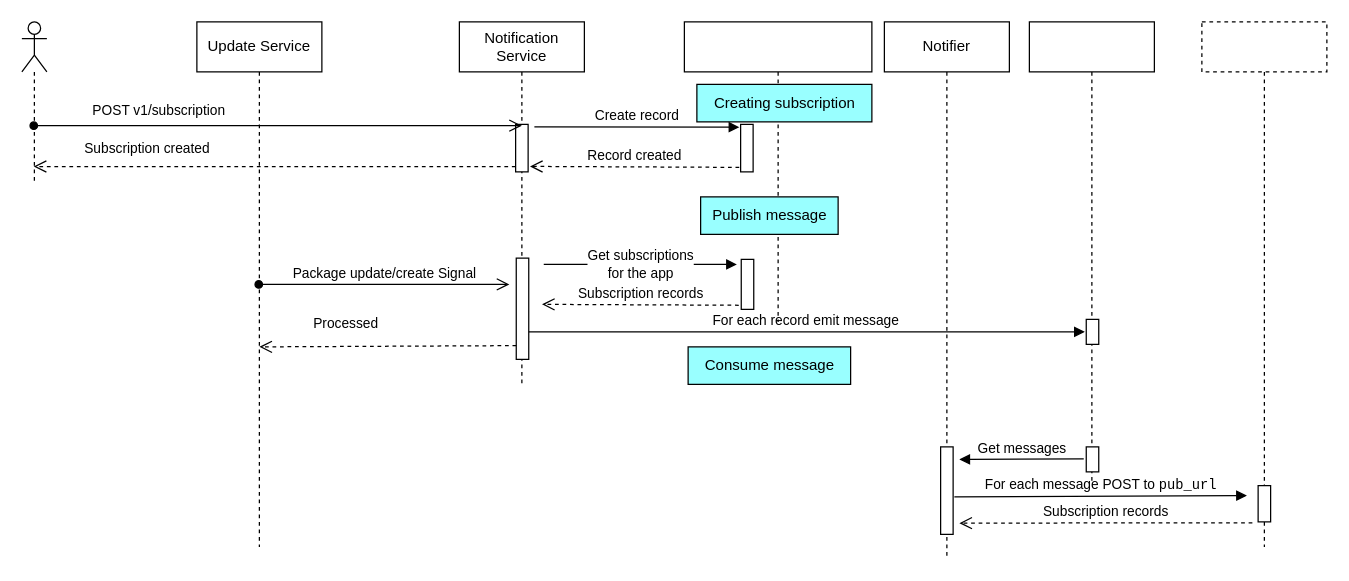
The diagram is 1349 pixels wide and 581 high, and some of its shapes have lost their labels. The shapes that lost their labels are listed below. From the top down, each one's box as (x1, y1, x2, y2) in pixels, then its label:
(683, 21, 872, 322): DB
(1028, 21, 1154, 484): RabbitMQ
(1201, 21, 1327, 547): Webhook URL
